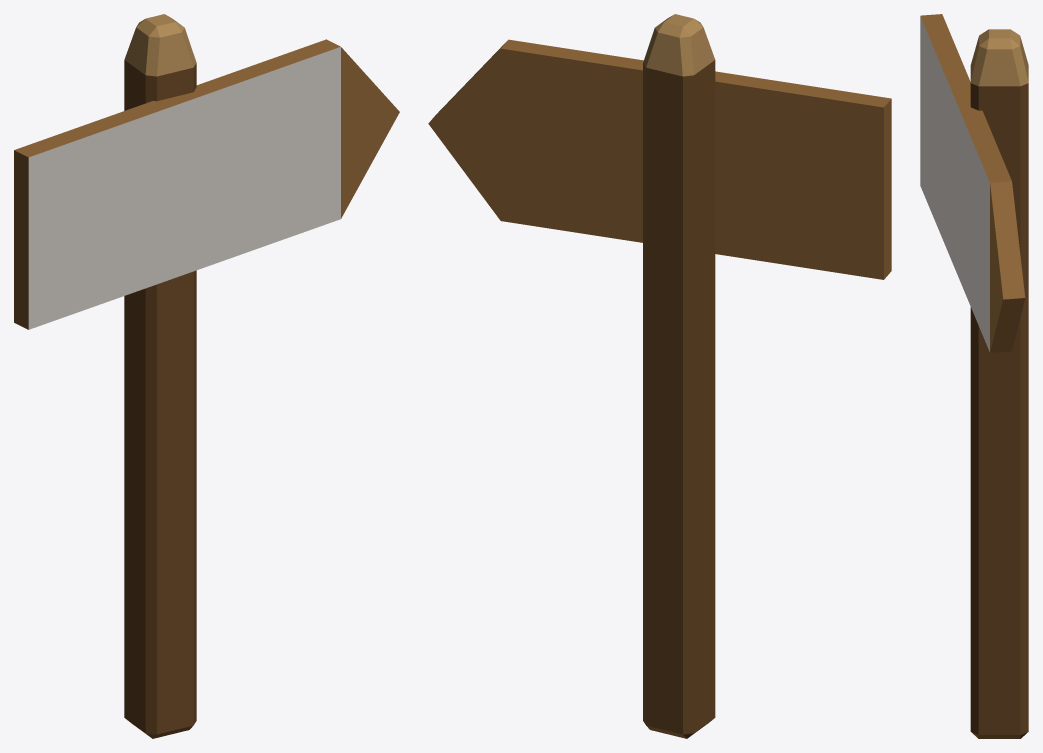
Rendered from signpost.glb.
3 views of the same model, side by side, from view 1: azimuth 30°, elevation 25°; view 2: azimuth 150°, elevation 25°; view 3: azimuth 270°, elevation 25° (orthographic).
Visible parts, largest first — view 1: Signpost; view 2: Signpost; view 3: Signpost.
Part boxes in pixels (<box>): Signpost: <box>14,14,399,738</box>; Signpost: <box>428,14,891,738</box>; Signpost: <box>920,14,1028,738</box>.
Size of the model in its own units: 1.06 by 1.72 by 0.2427.
